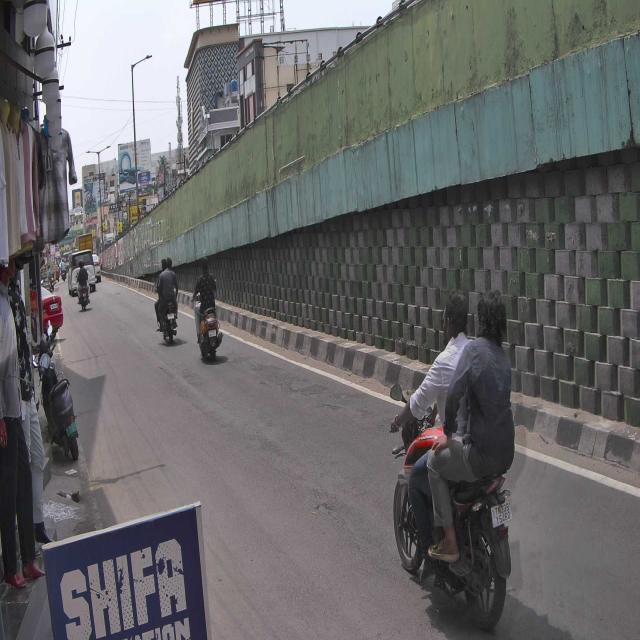double_rider: (388, 284, 516, 628)
